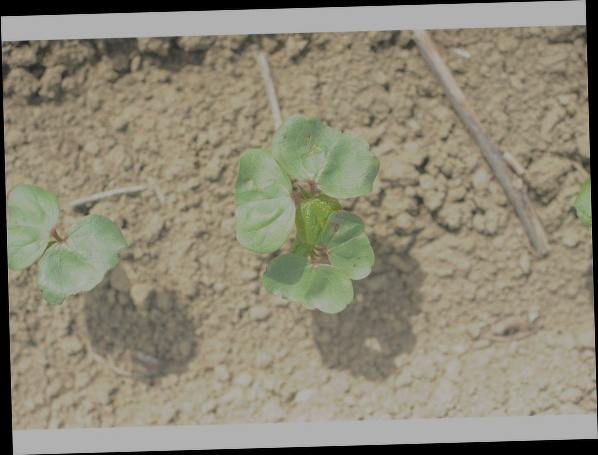cotton: (234, 116, 382, 315), (7, 182, 125, 304)
